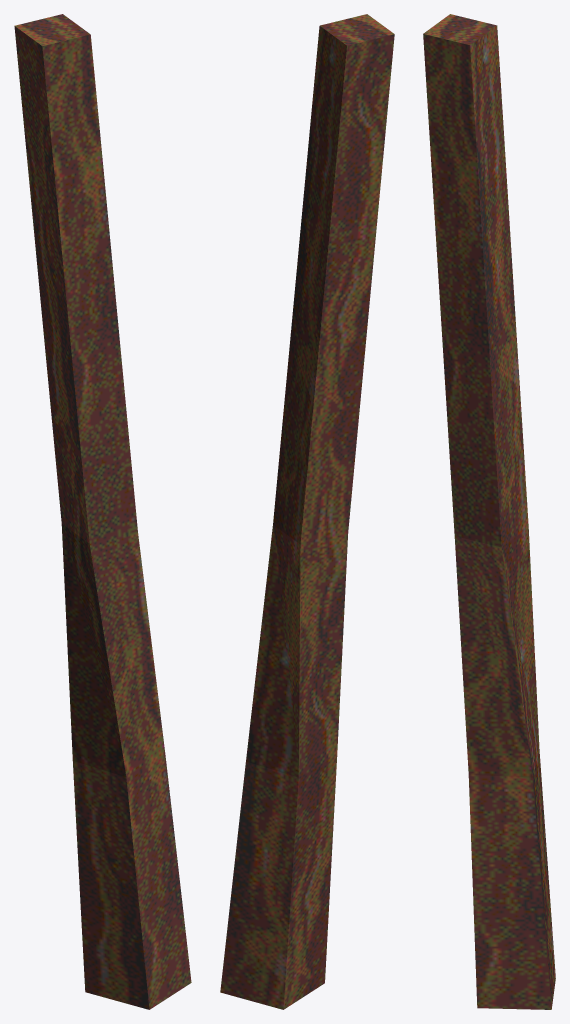
The model's file is SlapBros_Beach_Beam_5.fbx.
3 views of the same model, side by side, from view 1: azimuth 30°, elevation 25°; view 2: azimuth 210°, elevation 25°; view 3: azimuth 330°, elevation 25° (orthographic). The views are drawn at different scales.
Parts seen in each view (by area): view 1: SlapBros_Beach_Beam_5; view 2: SlapBros_Beach_Beam_5; view 3: SlapBros_Beach_Beam_5.
Part boxes in pixels (box(x1,y1,x2,y2)): SlapBros_Beach_Beam_5: box(14, 14, 191, 1009); SlapBros_Beach_Beam_5: box(220, 14, 394, 1009); SlapBros_Beach_Beam_5: box(423, 14, 555, 1009).
Size of the model in its own units: 1.73 by 11.34 by 1.14.
